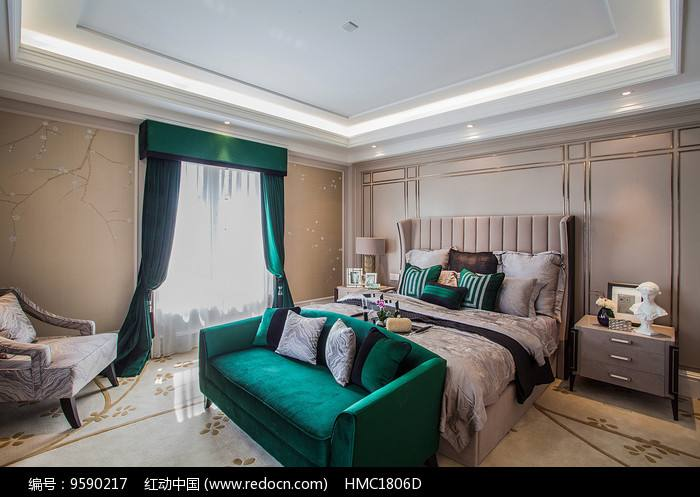床: (209, 296, 575, 460)
枕头: (399, 247, 565, 317), (263, 314, 354, 386)
灯: (355, 236, 388, 283), (346, 19, 363, 34), (622, 91, 638, 104), (465, 124, 479, 136), (222, 120, 236, 131), (372, 146, 385, 157)
